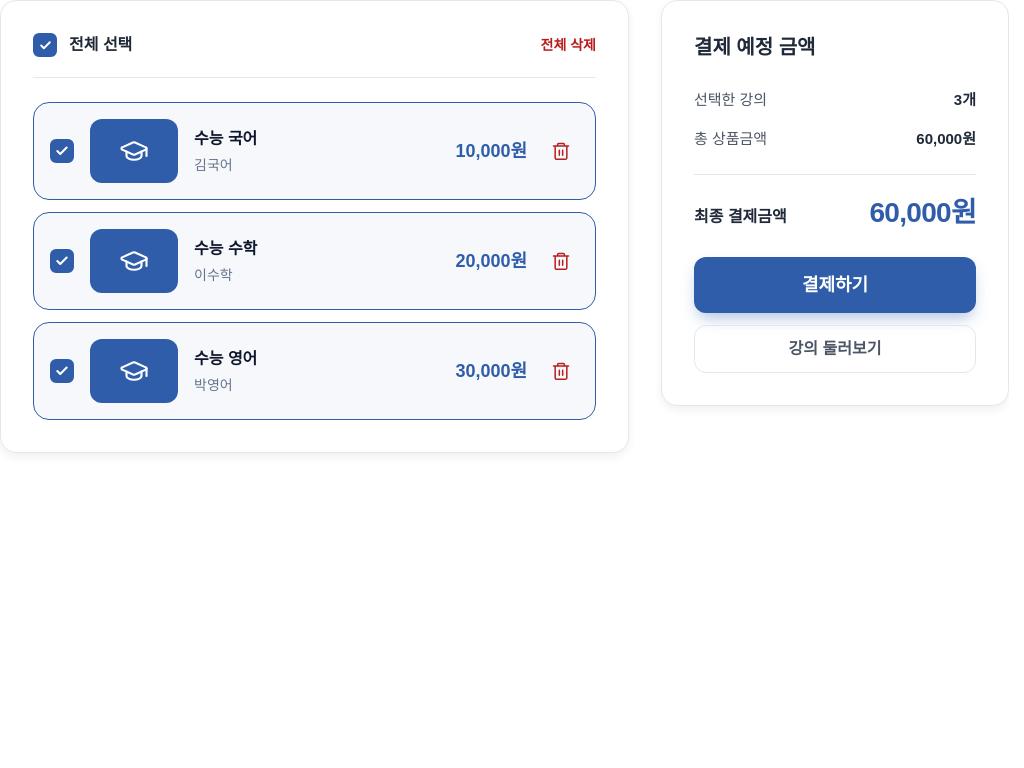
Scenario: CartClient — 장바구니 통합 › 전체 삭제 › 전체 삭제 후 빈 상태 화면으로 전환된다
Click the button "전체 삭제" at (568, 45), box x1=541 y1=35 x2=596 y2=55
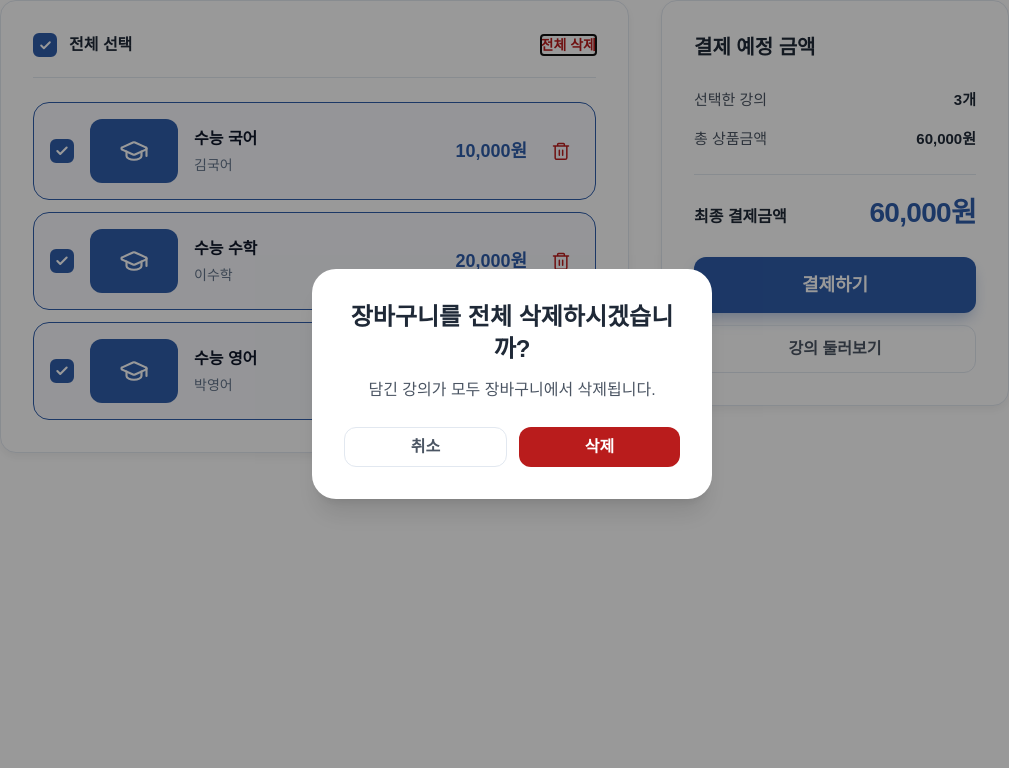
Click the button "삭제" at (600, 447), box x1=519 y1=427 x2=680 y2=467
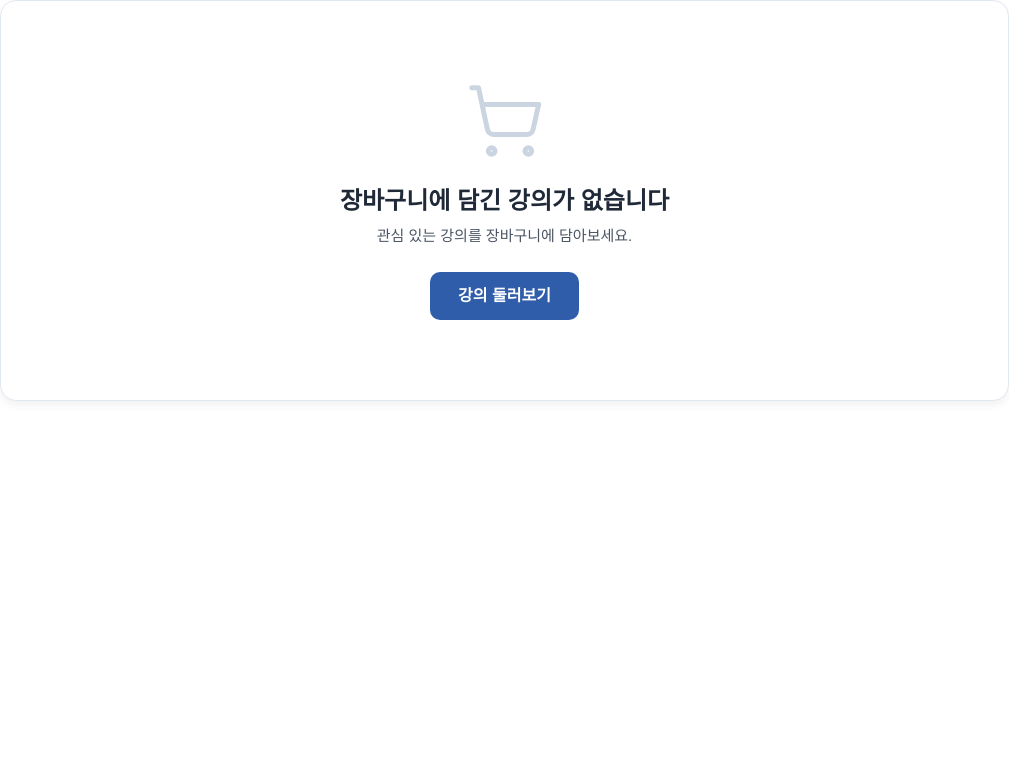
Expected: the heading "장바구니에 담긴 강의가 없습니다" is shown, x1=340 y1=187 x2=669 y2=214
